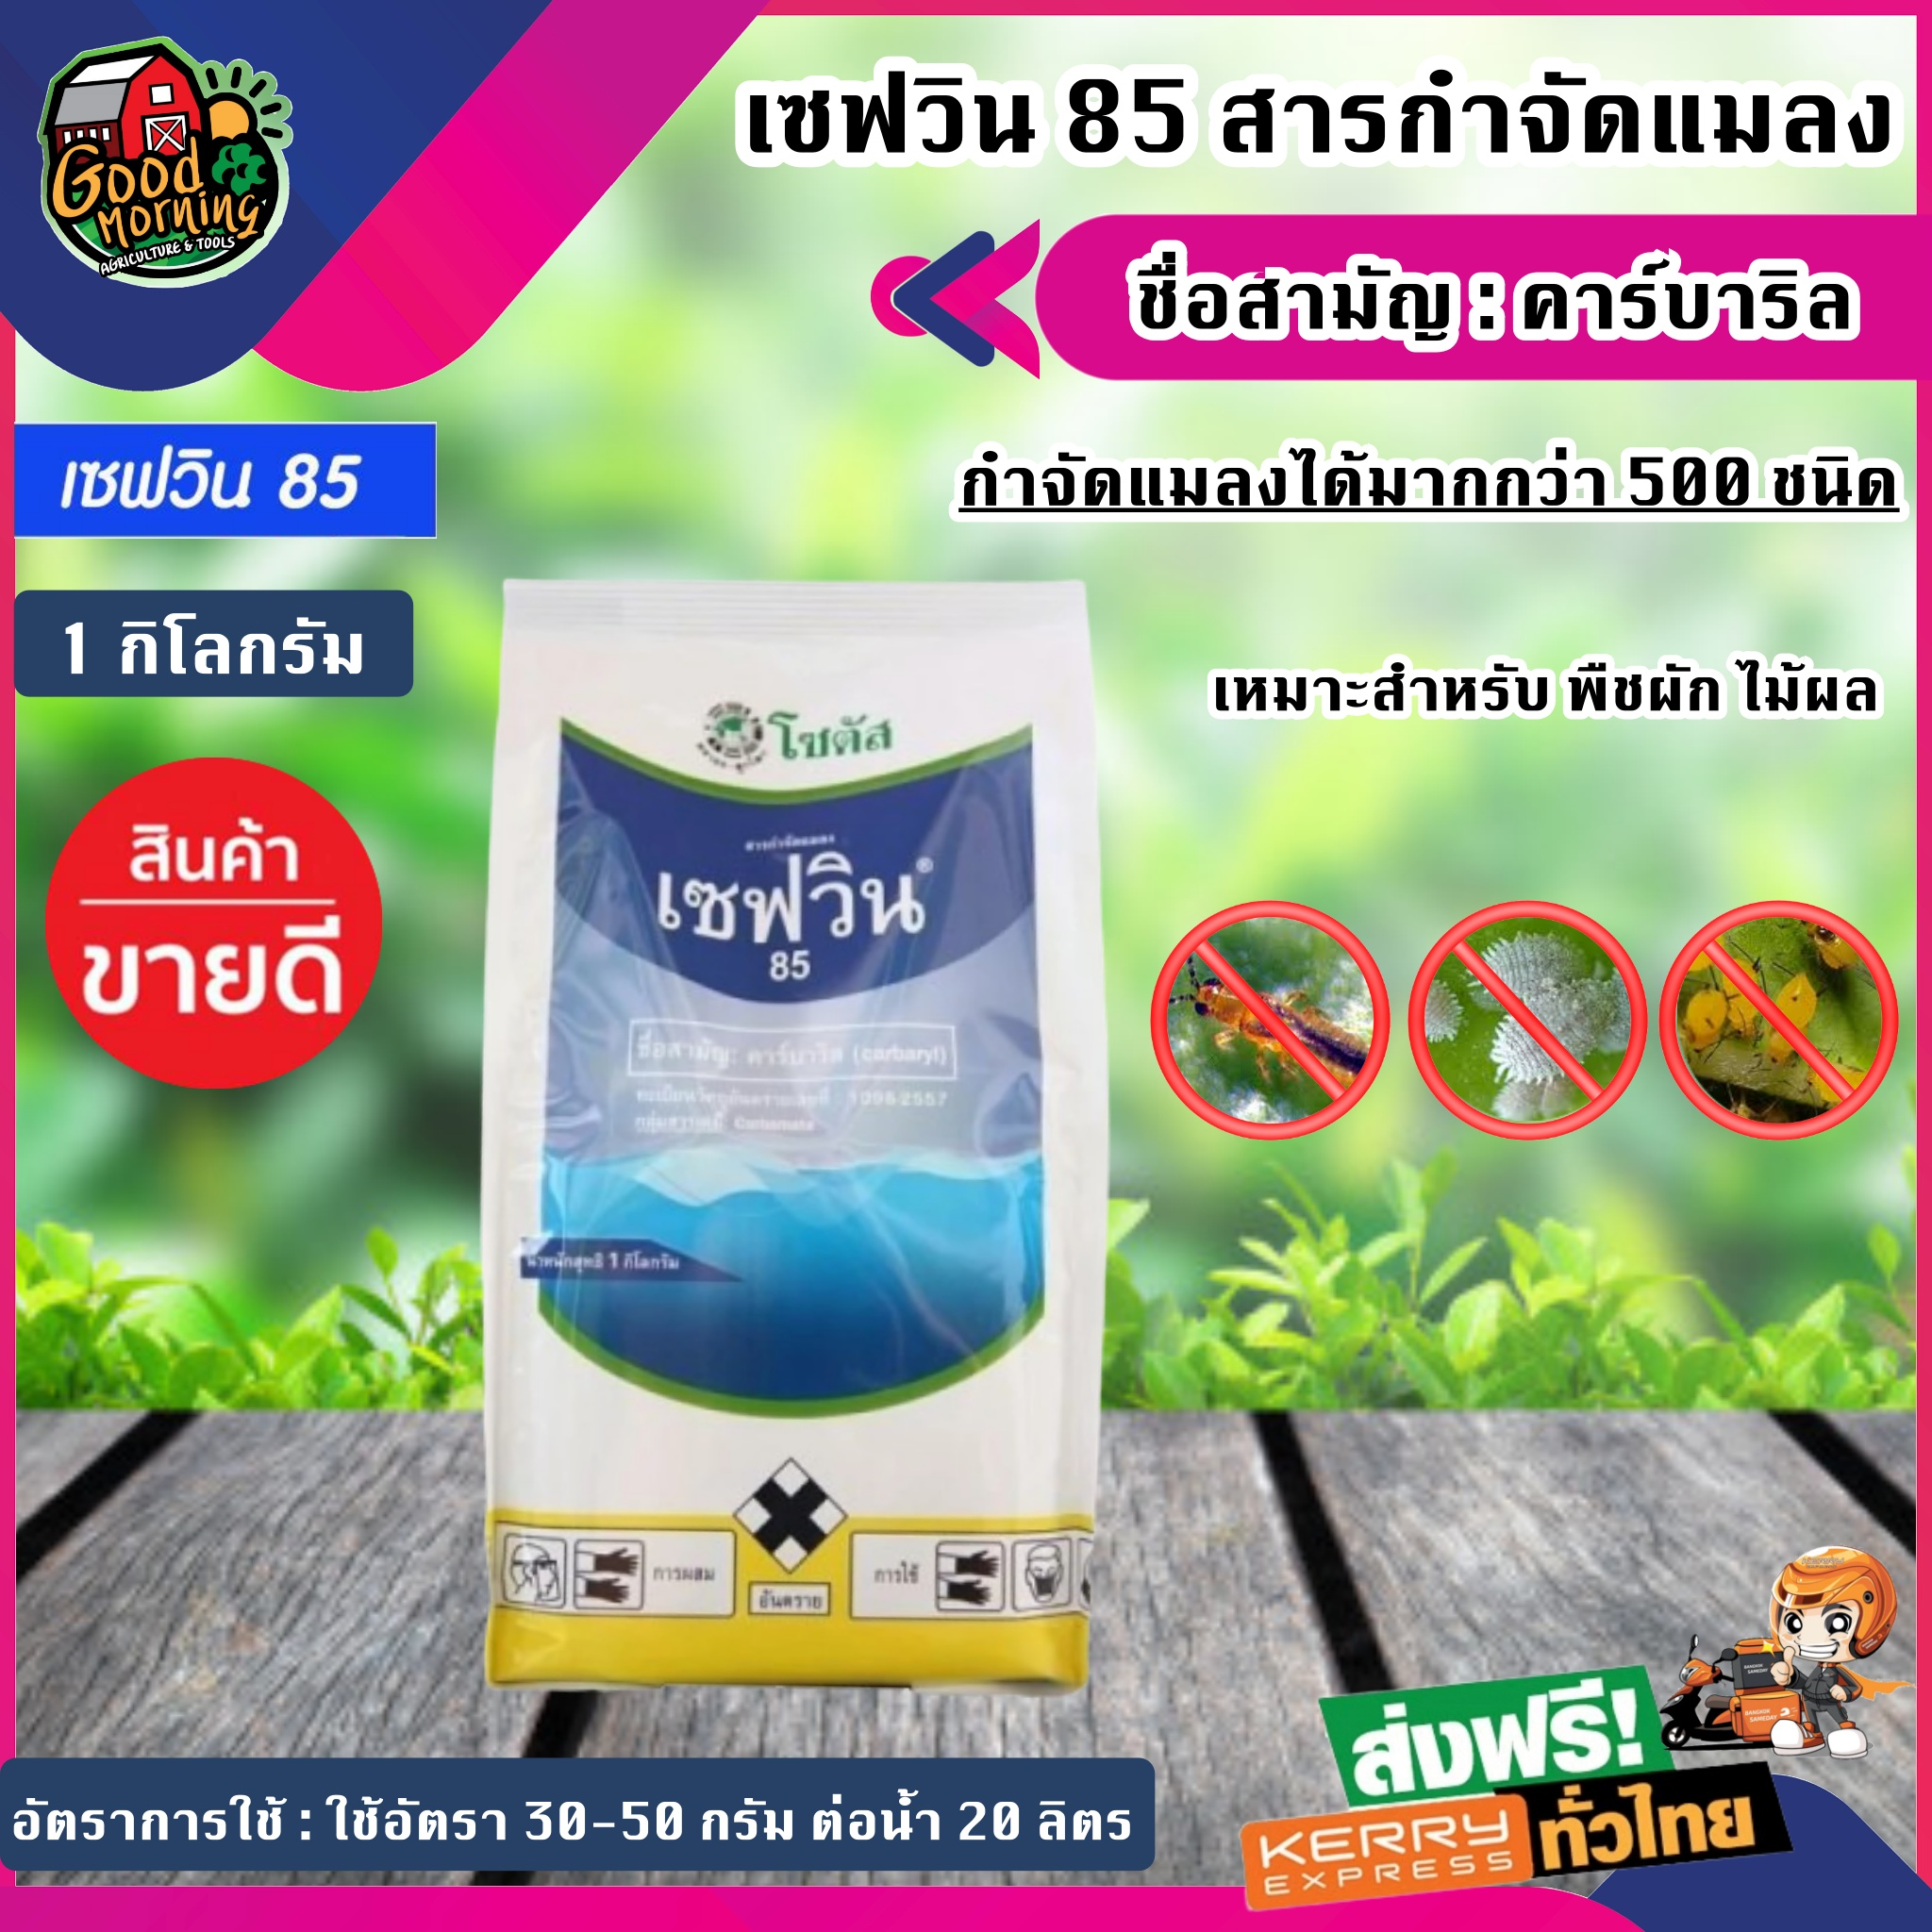Insecticide: (472, 563, 1132, 1720)
